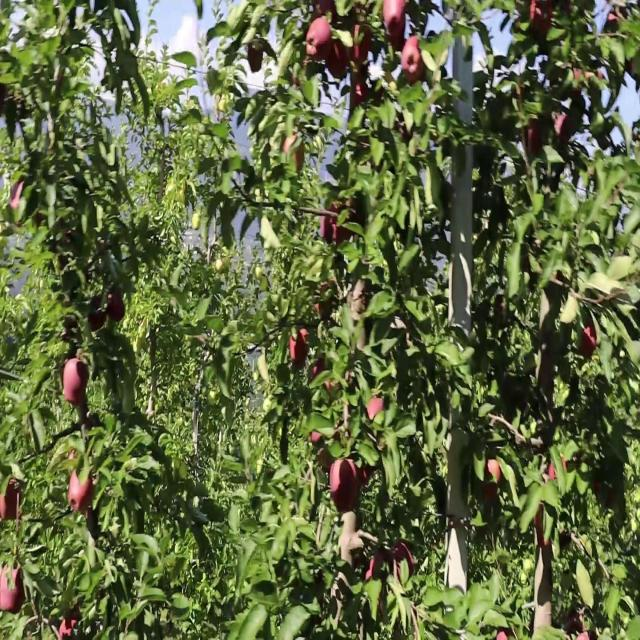apple: (320, 199, 355, 245), (328, 199, 359, 247), (400, 35, 426, 85), (332, 462, 362, 505), (384, 0, 408, 48), (64, 362, 89, 407), (308, 21, 333, 66), (352, 14, 373, 66), (68, 476, 94, 516), (4, 568, 25, 613), (392, 547, 415, 588), (328, 42, 351, 82), (320, 206, 343, 244), (532, 1, 555, 37), (484, 462, 504, 501), (284, 135, 305, 172), (340, 533, 363, 565), (332, 490, 359, 516), (316, 284, 336, 318), (536, 504, 551, 549), (292, 327, 309, 366), (368, 554, 389, 585), (4, 483, 22, 519), (580, 327, 599, 361), (88, 298, 107, 332), (316, 0, 339, 27), (528, 120, 544, 158), (108, 291, 126, 324), (548, 455, 568, 484), (248, 42, 265, 76), (556, 113, 574, 142), (352, 85, 371, 110), (572, 71, 591, 96), (312, 355, 328, 382), (12, 184, 25, 217), (368, 398, 385, 423), (548, 277, 567, 299), (60, 618, 79, 638), (0, 497, 7, 521)
